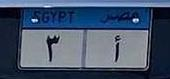3: (44, 33, 63, 61)
alif: (112, 34, 121, 62)
